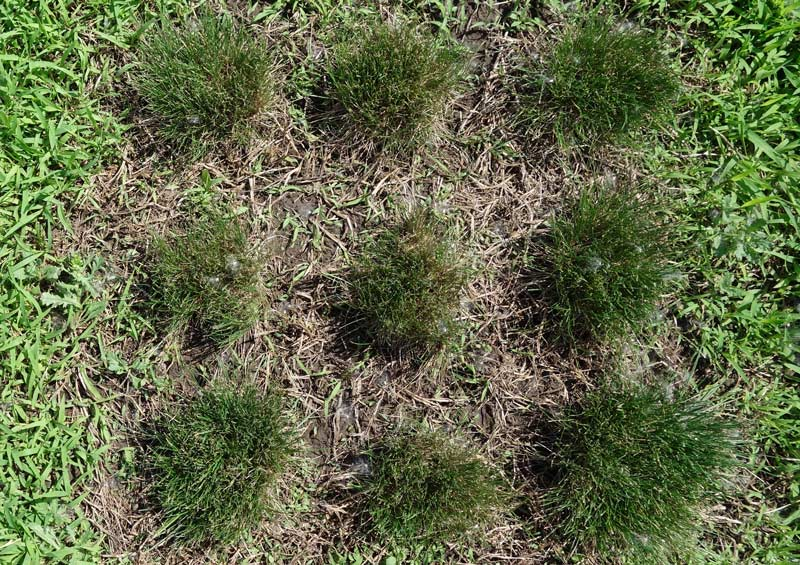crabgrass: (708, 16, 795, 565), (1, 35, 84, 565), (155, 393, 303, 539), (326, 19, 467, 170), (578, 390, 699, 554), (559, 191, 682, 352), (149, 222, 296, 347), (137, 27, 286, 138), (526, 27, 665, 138), (356, 233, 448, 344), (387, 450, 481, 525)
